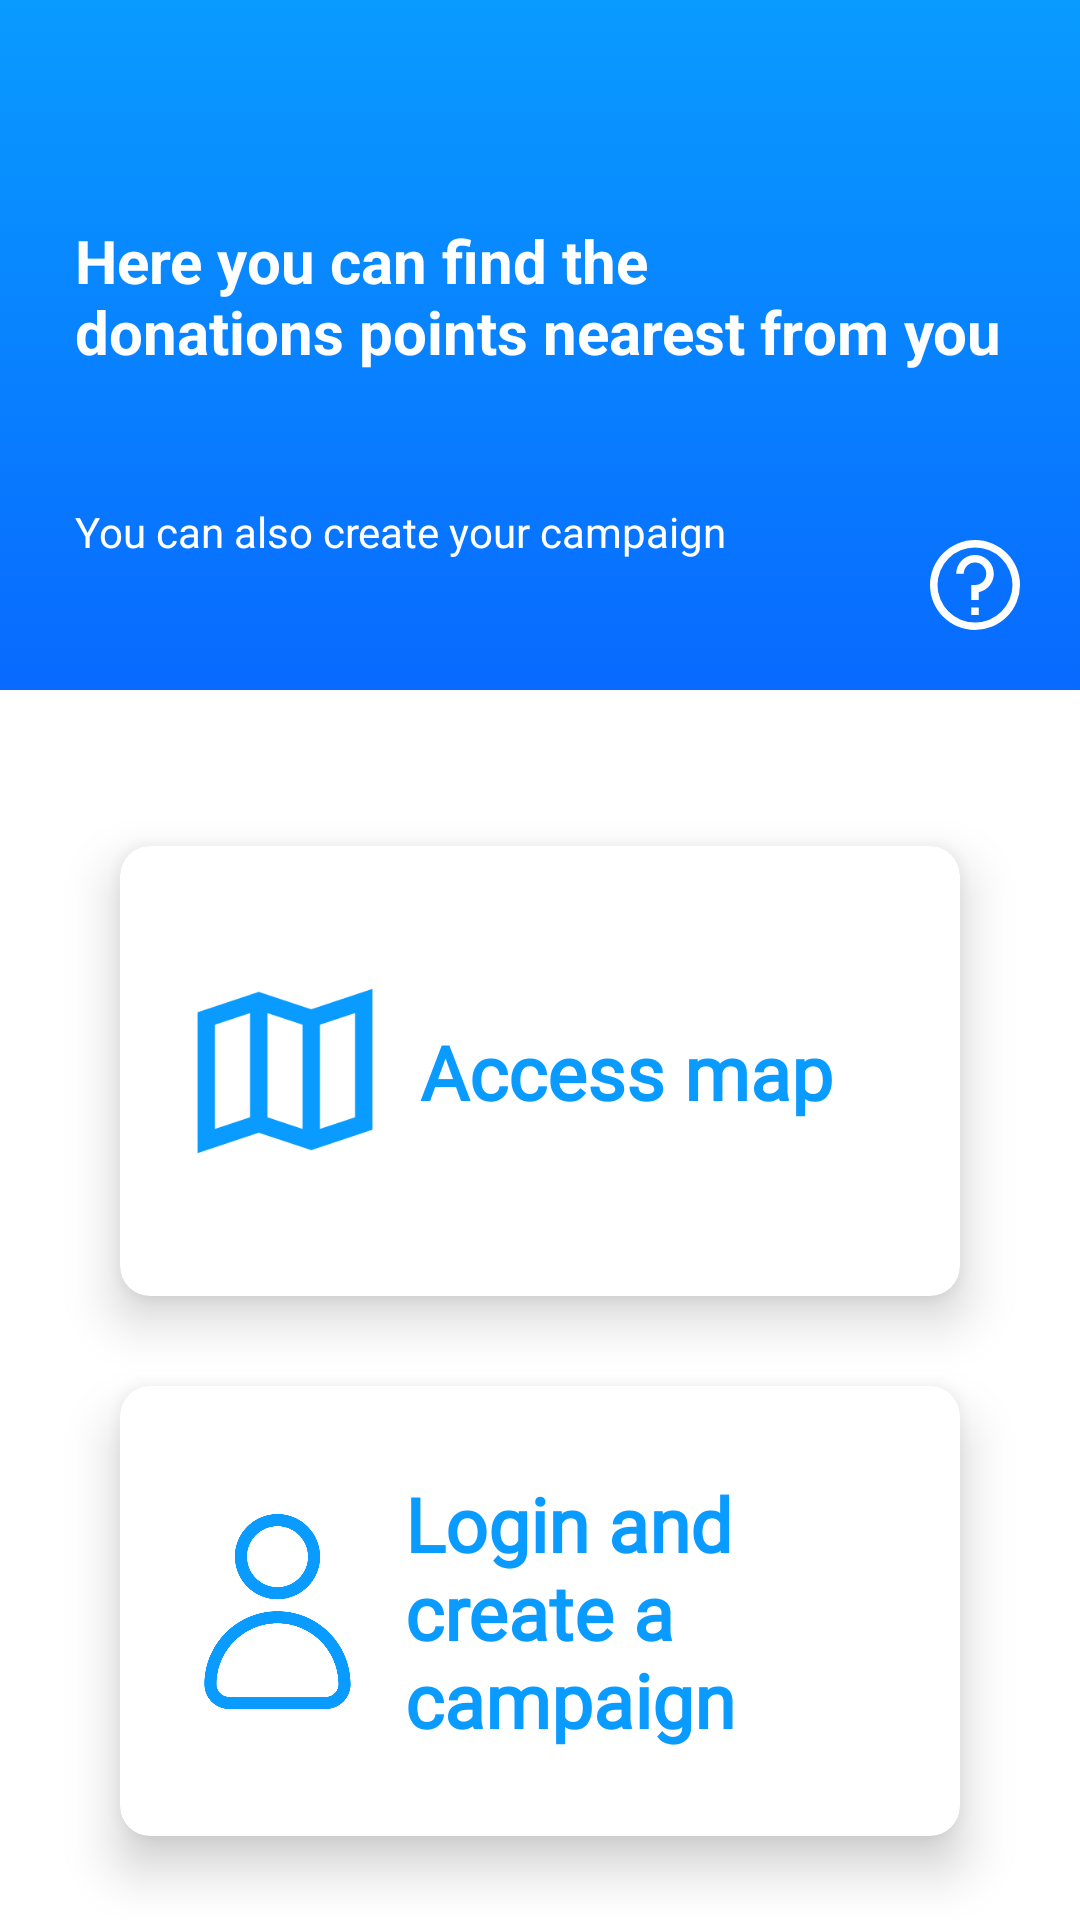

Where icons sit on this 1080px×1920px app screen, as Rect(x1, y1, x2, y2):
question: Rect(930, 540, 1020, 630)
user: Rect(204, 1514, 351, 1709)
